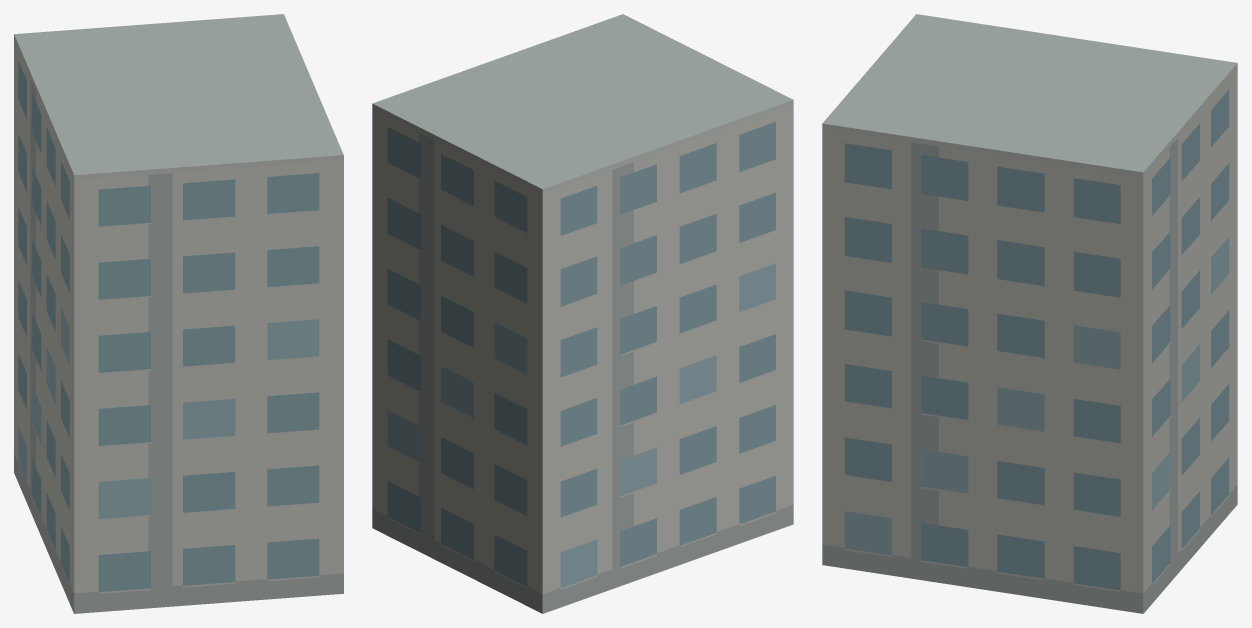
The model's file is survey-upis-32890935.glb.
The picture shows the model from 3 angles, left to right: view 1: azimuth 30°, elevation 25°; view 2: azimuth 150°, elevation 25°; view 3: azimuth 270°, elevation 25°; orthographic projection. The views are drawn at different scales.
Parts seen in each view (by area): view 1: survey-upis-32890935.tmp; view 2: survey-upis-32890935.tmp; view 3: survey-upis-32890935.tmp.
Boxes of the visible parts, <box> form: survey-upis-32890935.tmp: <box>14,14,343,613</box>; survey-upis-32890935.tmp: <box>372,14,793,613</box>; survey-upis-32890935.tmp: <box>822,14,1237,613</box>.
Size of the model in its own units: 15.32 by 19.9 by 16.98.
